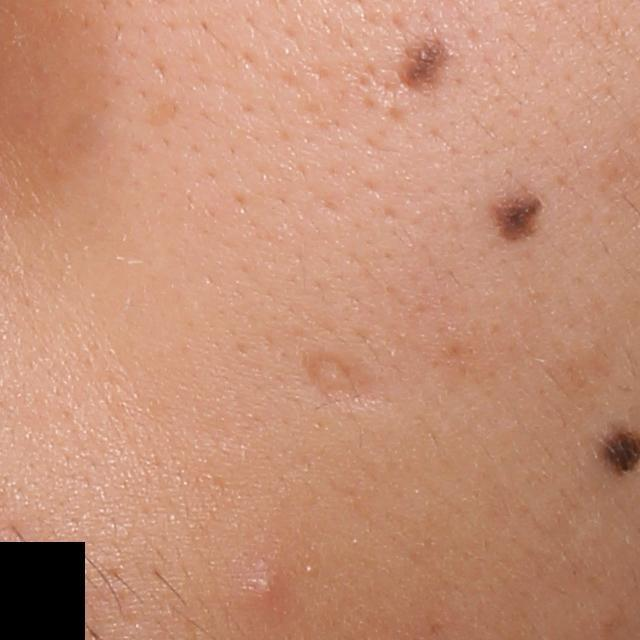atrophic_scar: (299, 346, 395, 417)
nevus: (488, 170, 546, 243), (397, 29, 452, 100)
papule: (226, 546, 296, 633)
